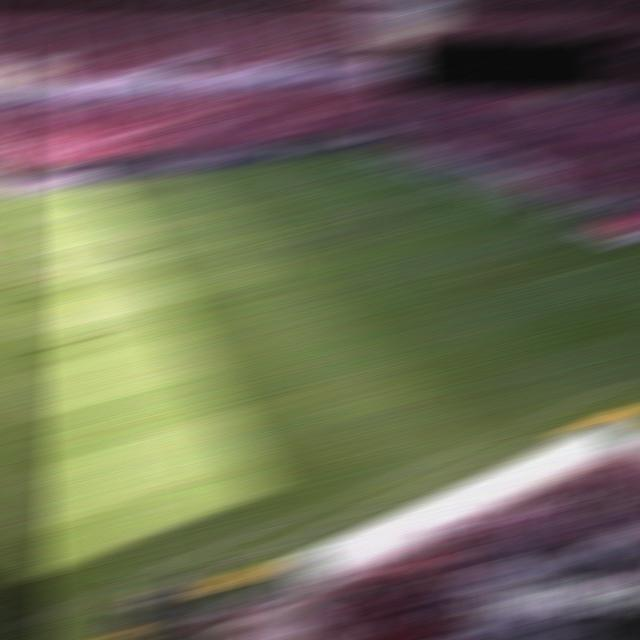bigarea_bottom_inner: (509, 275, 549, 289)
bigarea_top_inner: (303, 173, 343, 184)
bigarea_top_outter: (397, 162, 435, 171)
bottom_arc_area_intersection: (415, 229, 454, 240)
corner: (351, 144, 390, 152)
halfcircle_bottom: (54, 310, 98, 331)
halfcircle_top: (37, 237, 78, 254)
midline_bottom_intersection: (115, 564, 167, 583)
midline_top_intersection: (25, 185, 66, 199)
smallarea_bottom_inner: (511, 219, 549, 232)
smallarea_bottom_outter: (549, 213, 587, 223)
smallarea_top_inner: (415, 184, 452, 192)
smallarea_top_outter: (444, 180, 481, 184)
top_arc_area_intersection: (356, 200, 388, 205)
